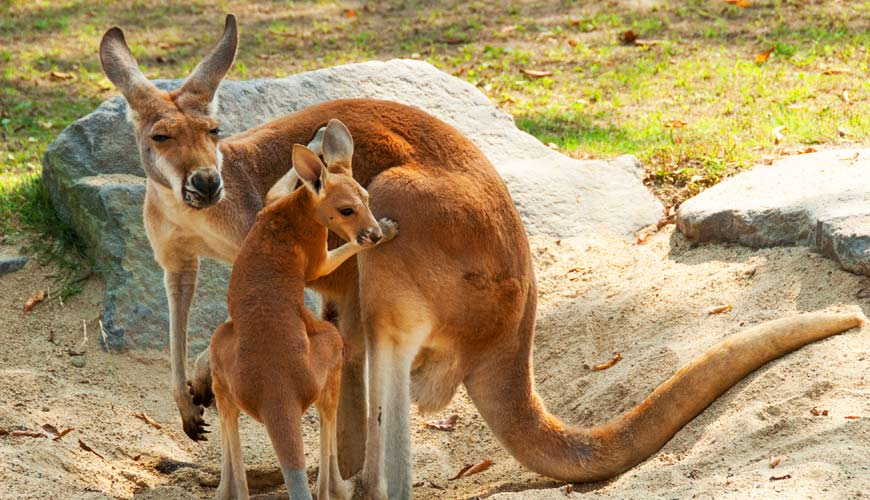kangaroo: (94, 14, 869, 500), (205, 118, 399, 500)
